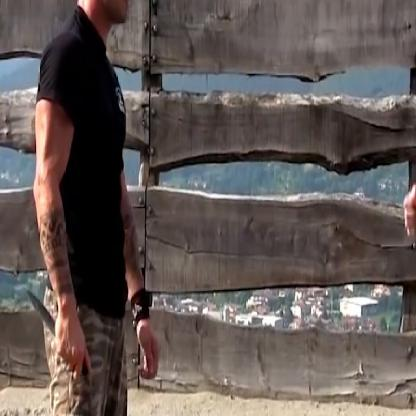knife: (21, 284, 92, 387)
